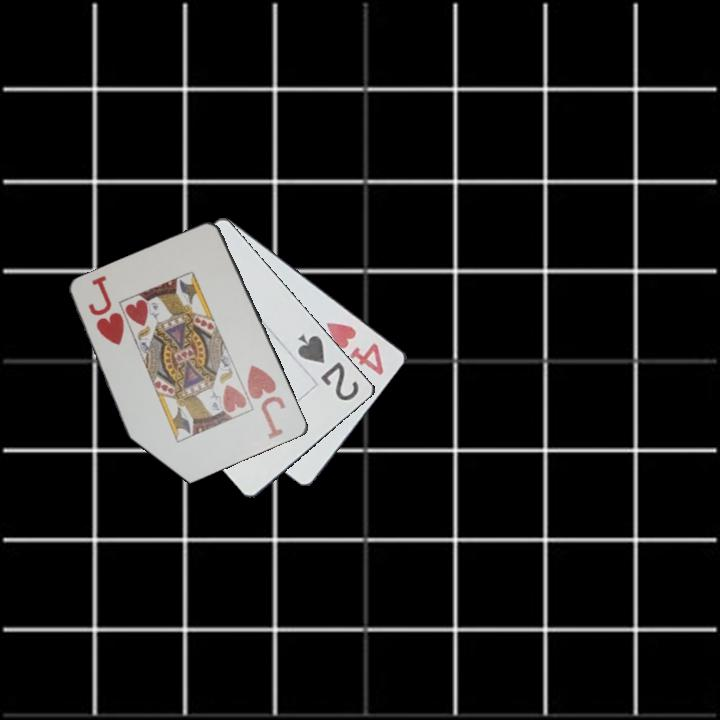2s: (294, 330, 362, 404)
4h: (322, 317, 387, 379)
Jh: (244, 362, 289, 442), (85, 273, 127, 349)
